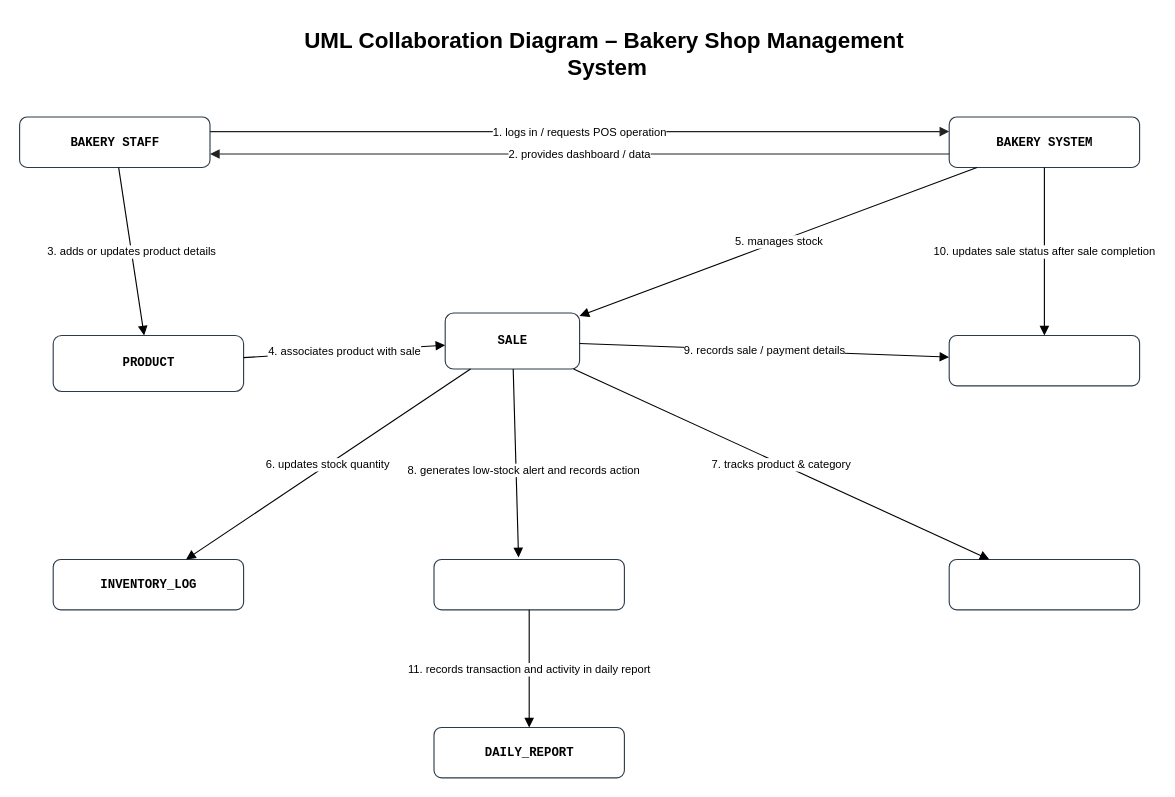
Image size: 1175x797. Some labels were removed from this diagram. The centre of each missing label's shape, as x and y in pixels:
CATEGORY: point 1044,584
LOW_STOCK_ALERT: point 528,584
SALE_RECORD: point 1044,360
